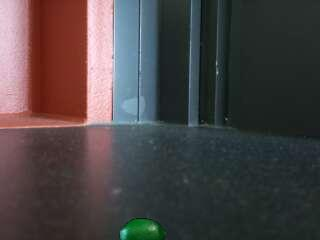Lime: (120, 216, 169, 240)
